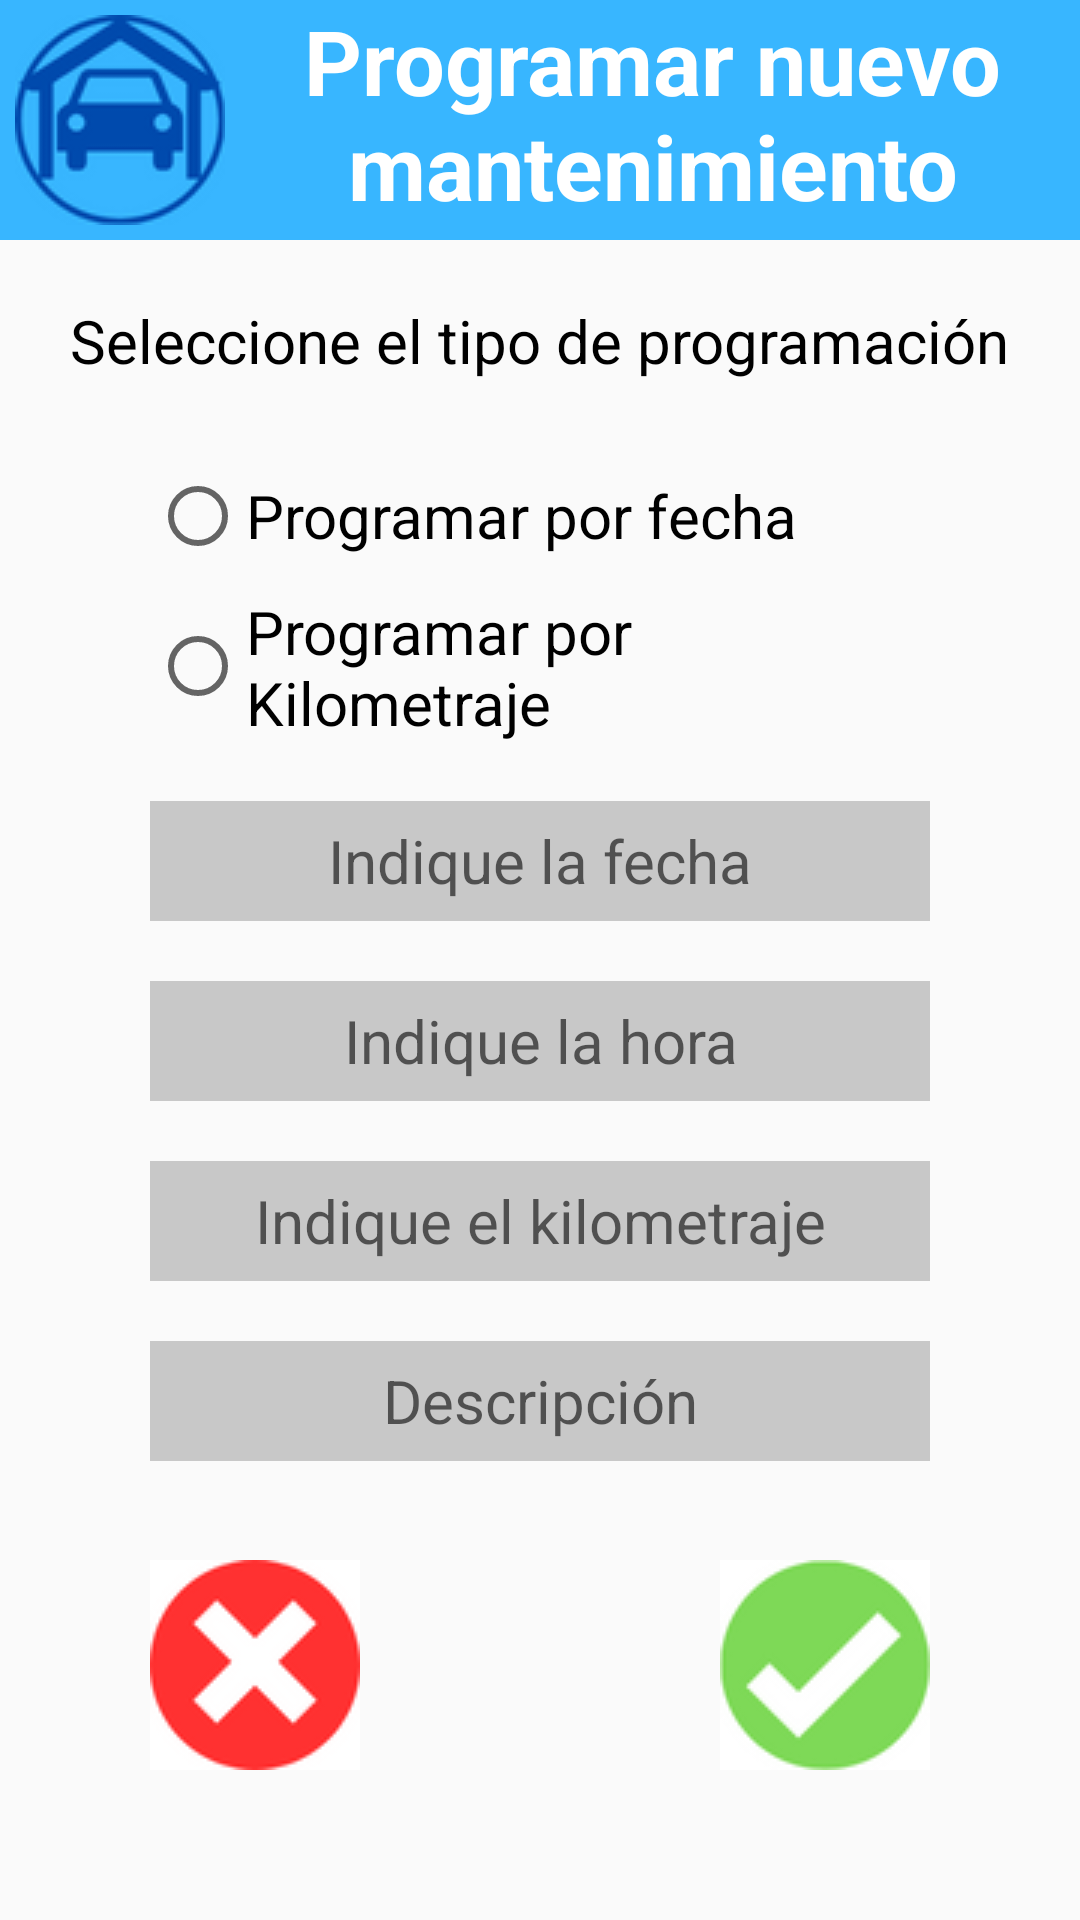

Icons on this 1080px x 1920px Android screen, each with its box as (x1, y1, x2, y2):
aceptar: (720, 1560, 930, 1770)
cancelar: (150, 1560, 360, 1770)
garaje: (15, 15, 225, 225)
